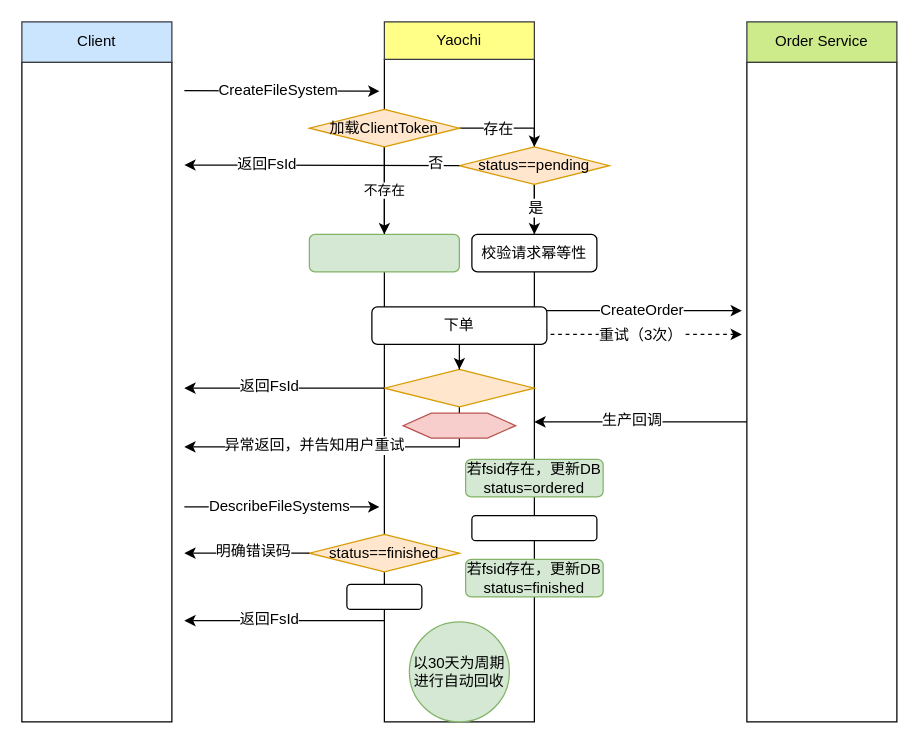
The diagram is 919 pixels wide and 744 high, and some of its shapes have lost their labels. Here are the shapes that lost their labels. From the top down, the box of each, then its label:
(308, 233, 459, 272): 首次请求，DB Create status=pending
(383, 368, 534, 407): 下单是否成功
(402, 412, 516, 438): 监控报警
(471, 514, 597, 541): ocm成功返回
(346, 583, 422, 609): 正常查询
